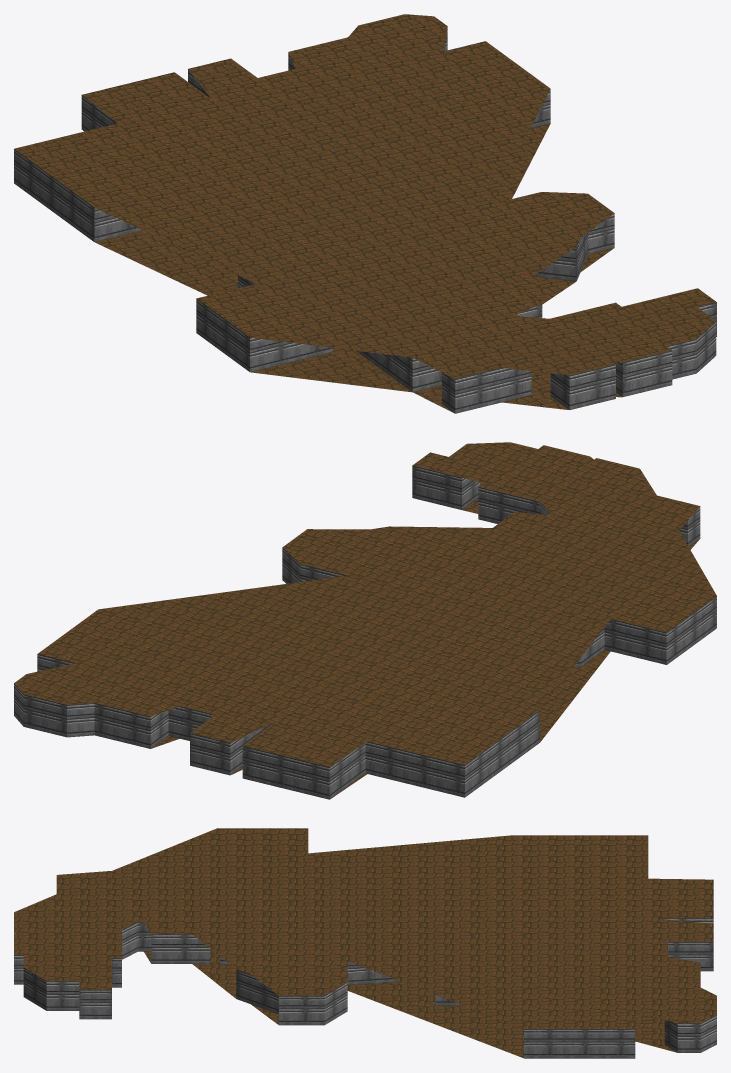
The model's file is D_Map.fbx.
3 views of the same model, one above another, from view 1: azimuth 30°, elevation 25°; view 2: azimuth 150°, elevation 25°; view 3: azimuth 270°, elevation 25° (orthographic). The views are drawn at different scales.
Parts seen in each view (by area): view 1: Floor.001, Walls, Floor; view 2: Floor.001, Walls, Floor; view 3: Floor.001, Walls, Floor.
Boxes of the visible parts, <box> form: Floor.001: <box>14,14,716,378</box>; Walls: <box>14,27,716,413</box>; Floor: <box>95,123,622,412</box>; Floor.001: <box>14,442,716,767</box>; Walls: <box>14,465,716,799</box>; Floor: <box>151,482,699,797</box>; Floor.001: <box>14,828,716,1028</box>; Walls: <box>14,918,716,1058</box>; Floor: <box>144,949,676,1058</box>.
Bounding box in the file's own units: 1450 × 100 × 2150.
Materials: 2 (2 with a texture image).
